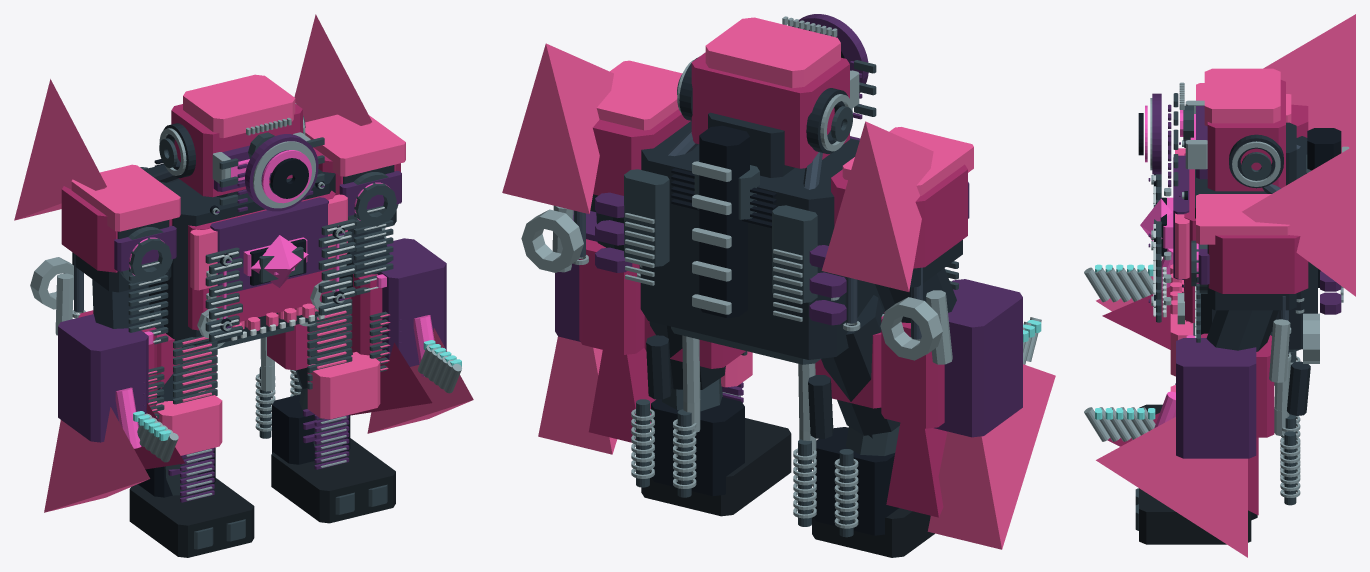
Rendered from enemy_striker_4k.obj.
3 renders of one model, left to right at view 1: azimuth 30°, elevation 25°; view 2: azimuth 150°, elevation 25°; view 3: azimuth 270°, elevation 25°, orthographic. The views are drawn at different scales.
Bounding box in the file's own units: 2.12 × 2.15 × 1.28.
